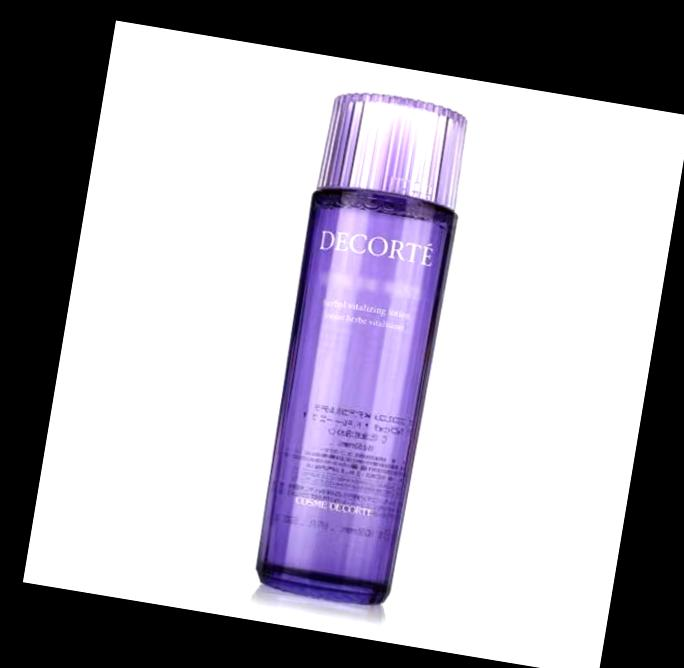cosmetic: (238, 89, 478, 612)
